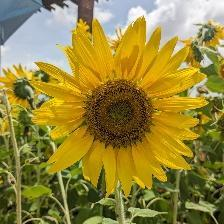sunflower: (34, 22, 201, 196)
